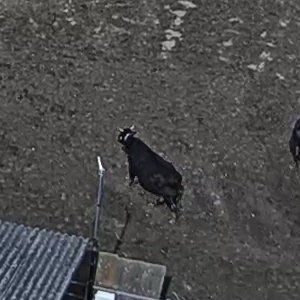cow: (108, 112, 210, 217)
